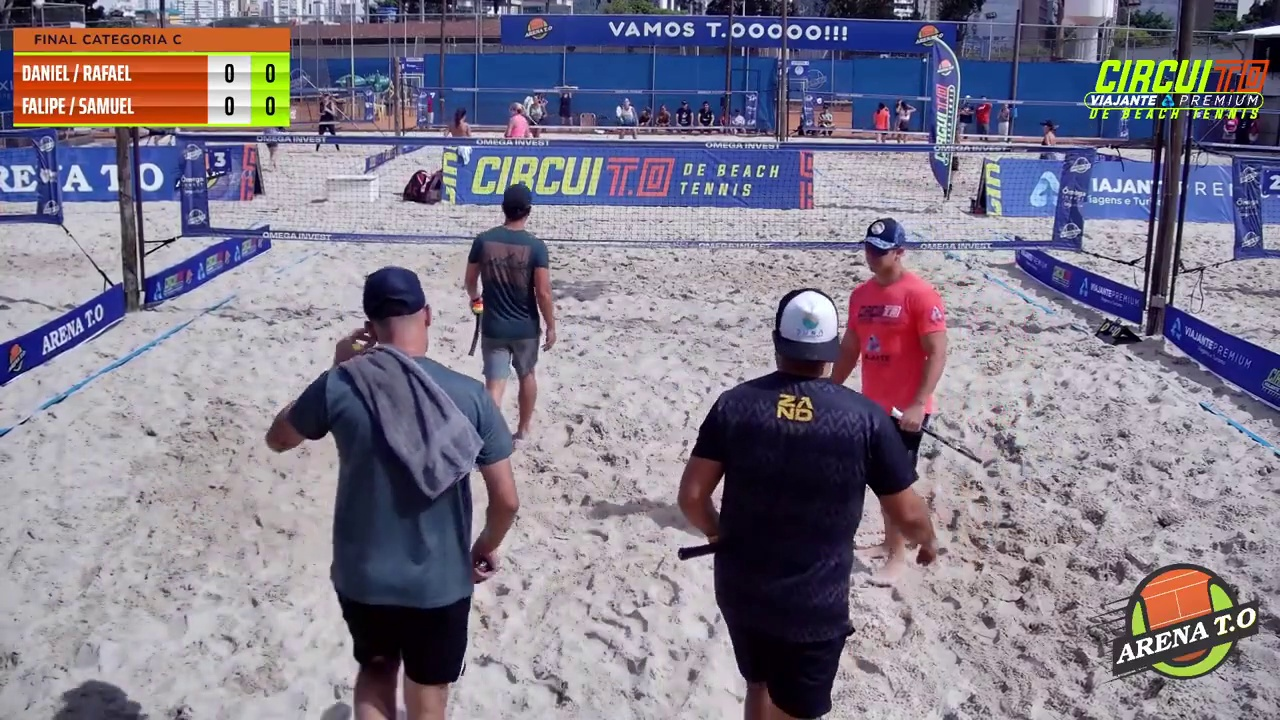court_line: (635, 0, 808, 423)
